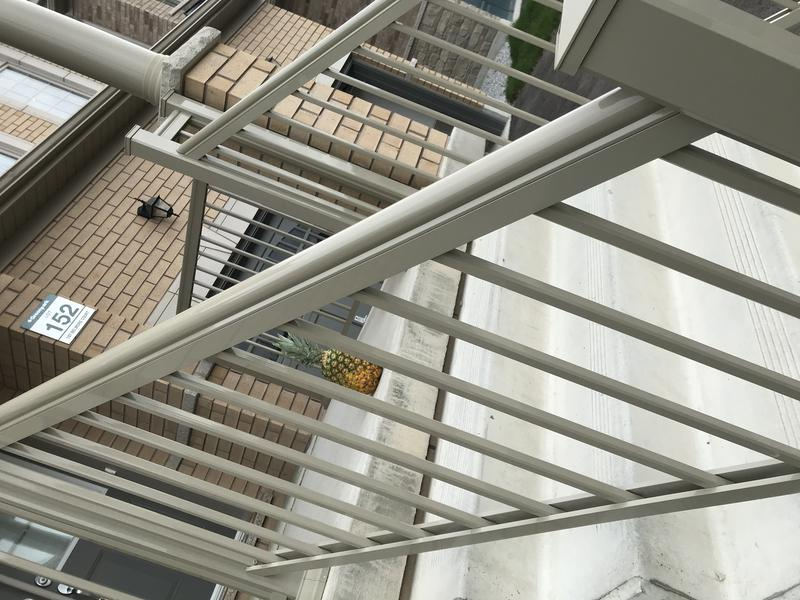pineapple: (261, 324, 386, 399)
